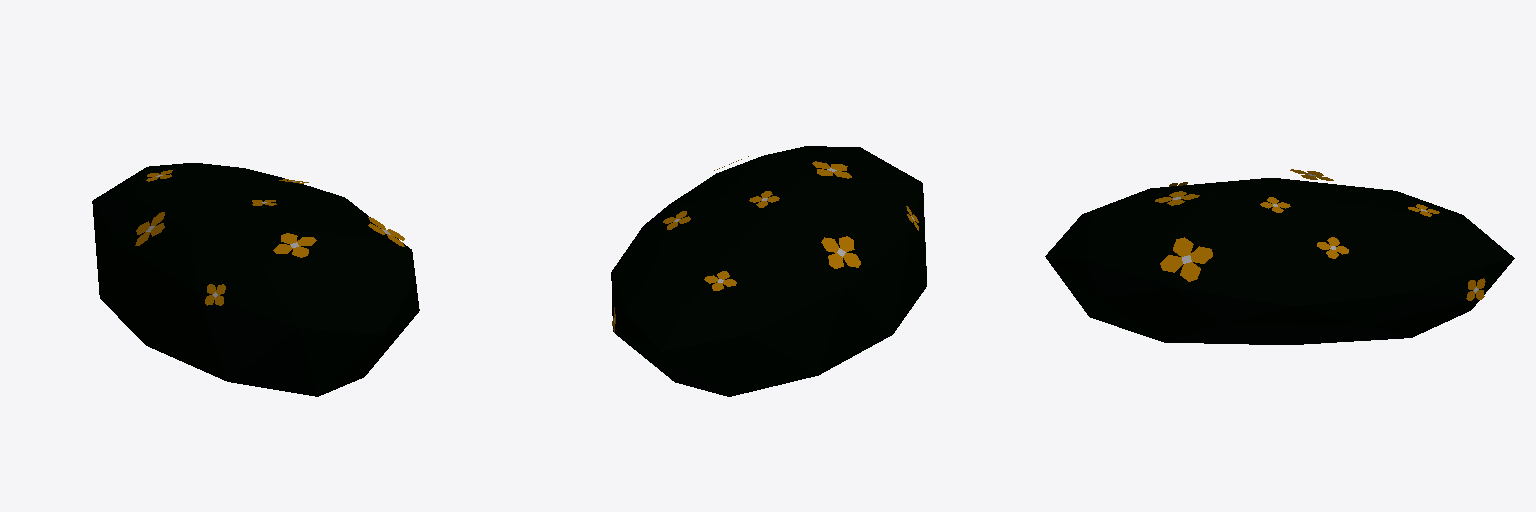
The model's file is Bush_A.obj.
3 renders of one model, left to right at view 1: azimuth 30°, elevation 25°; view 2: azimuth 150°, elevation 25°; view 3: azimuth 270°, elevation 25°, orthographic.
Parts seen in each view (by area): view 1: Bush_A; view 2: Bush_A; view 3: Bush_A.
Boxes of the visible parts, x1=… form: Bush_A: x1=92, y1=163, x2=419, y2=396; Bush_A: x1=611, y1=146, x2=926, y2=396; Bush_A: x1=1045, y1=169, x2=1514, y2=344.
Bounding box in the file's own units: 6.17 × 2.8 × 10.68.